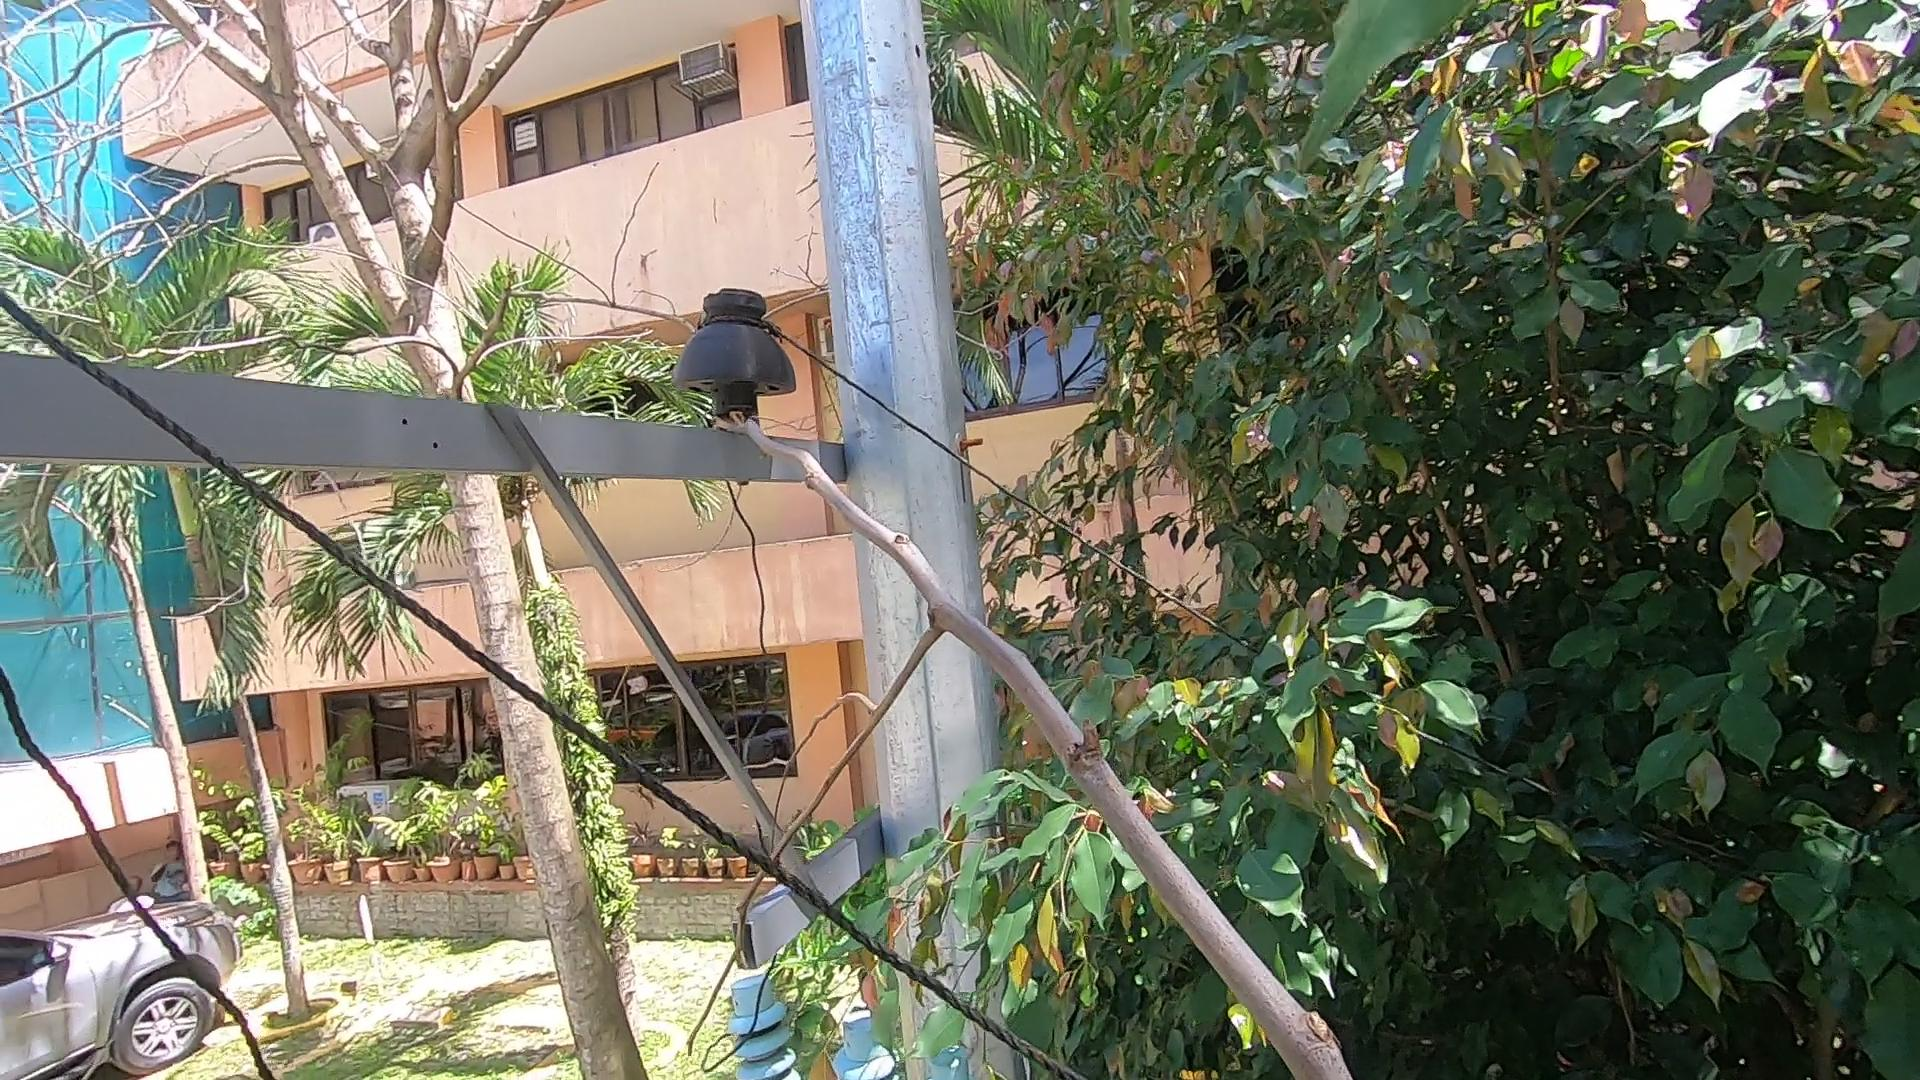branch with leaves: (849, 790, 1127, 1080)
tree branch: (651, 328, 1370, 1080)
